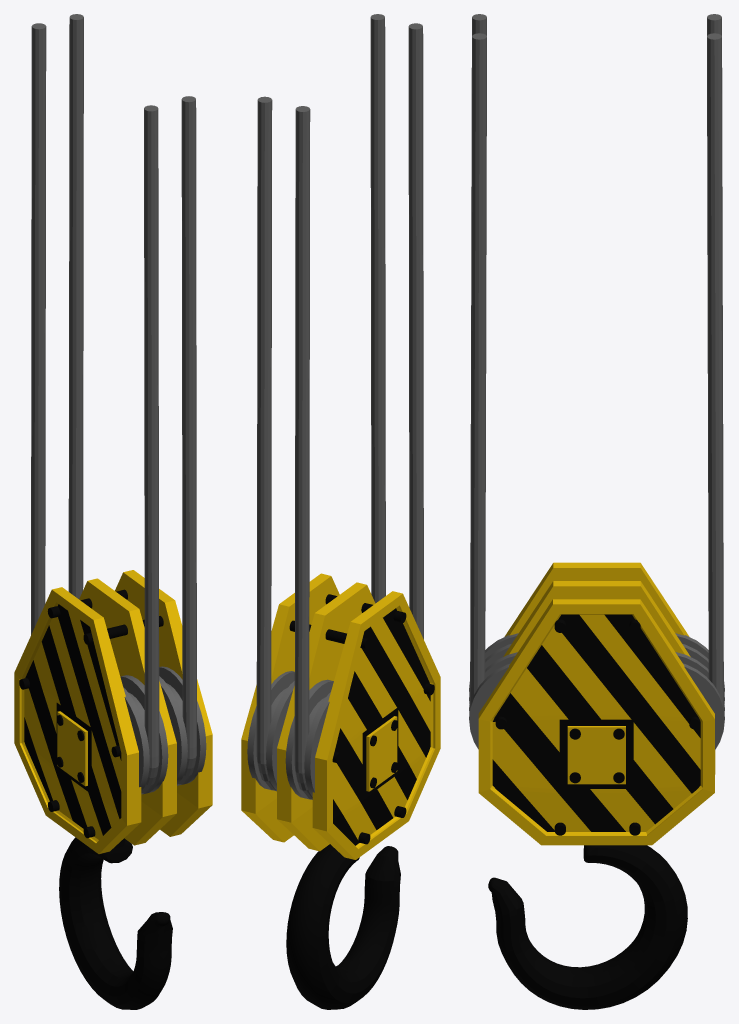
File: crane_hook.fbx
3 views of the same model, side by side, from view 1: azimuth 30°, elevation 25°; view 2: azimuth 150°, elevation 25°; view 3: azimuth 270°, elevation 25° (orthographic). The views are drawn at different scales.
Visible parts, largest first — view 1: Plane, Cylinder.002, Cylinder.001, Torus, Circle, Circle.001; view 2: Plane, Cylinder.002, Cylinder.001, Torus, Circle, Circle.001; view 3: Plane, Cylinder.001, Torus, Circle, Circle.001, Cylinder.002.
Boxes of the visible parts, x1=… form: Plane: x1=14, y1=570, x2=212, y2=853; Cylinder.002: x1=31, y1=23, x2=159, y2=794; Cylinder.001: x1=68, y1=14, x2=196, y2=785; Torus: x1=59, y1=837, x2=172, y2=1009; Circle: x1=159, y1=666, x2=206, y2=784; Circle.001: x1=120, y1=675, x2=168, y2=794; Plane: x1=241, y1=573, x2=440, y2=859; Cylinder.002: x1=294, y1=23, x2=423, y2=799; Cylinder.001: x1=256, y1=14, x2=385, y2=791; Torus: x1=286, y1=844, x2=400, y2=1009; Circle: x1=247, y1=671, x2=294, y2=790; Circle.001: x1=285, y1=679, x2=333, y2=799; Plane: x1=478, y1=562, x2=715, y2=845; Cylinder.001: x1=470, y1=33, x2=723, y2=707; Torus: x1=488, y1=845, x2=687, y2=1009; Circle: x1=469, y1=652, x2=724, y2=749; Circle.001: x1=469, y1=633, x2=724, y2=703; Cylinder.002: x1=470, y1=14, x2=723, y2=680.
Size of the model in its own units: 108 by 1089 by 257.
